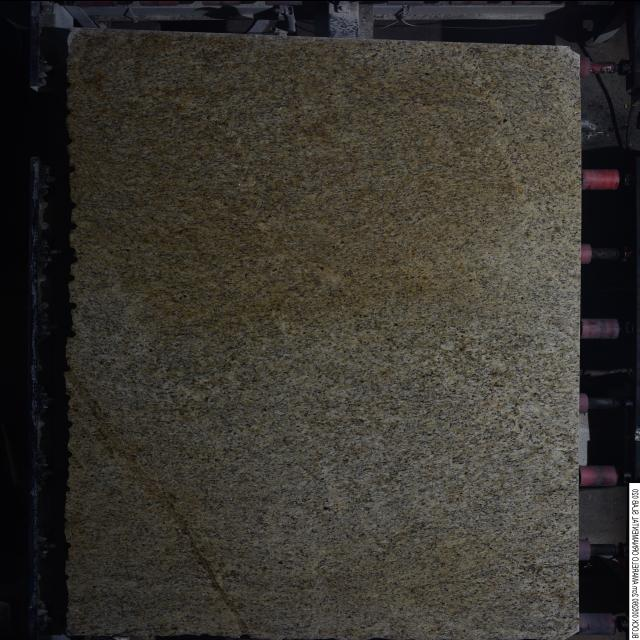chapa: (66, 29, 580, 639)
